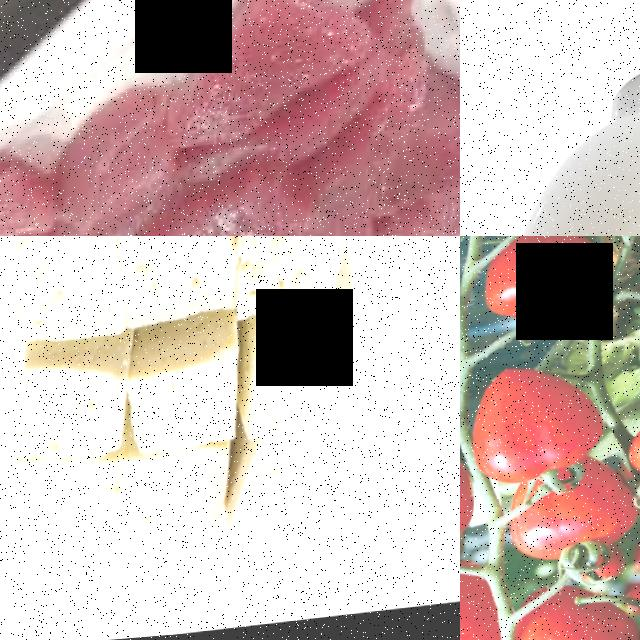tofu: (237, 317, 365, 453), (129, 325, 248, 468), (0, 236, 135, 355), (18, 344, 139, 474), (224, 236, 366, 343), (118, 236, 250, 339), (127, 451, 240, 550)
tomato: (482, 236, 617, 329)
tuna: (161, 0, 380, 166), (124, 156, 333, 236), (0, 142, 65, 236)
